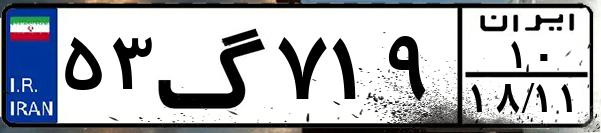0: (537, 27, 568, 80)
1: (330, 28, 385, 110), (560, 70, 590, 125), (508, 27, 537, 80), (470, 70, 495, 125), (535, 70, 560, 125)
3: (110, 28, 156, 98)
5: (57, 26, 110, 100)
7: (270, 28, 330, 110)
8: (495, 70, 520, 125)
9: (385, 28, 445, 110)
گ: (156, 12, 270, 120)
